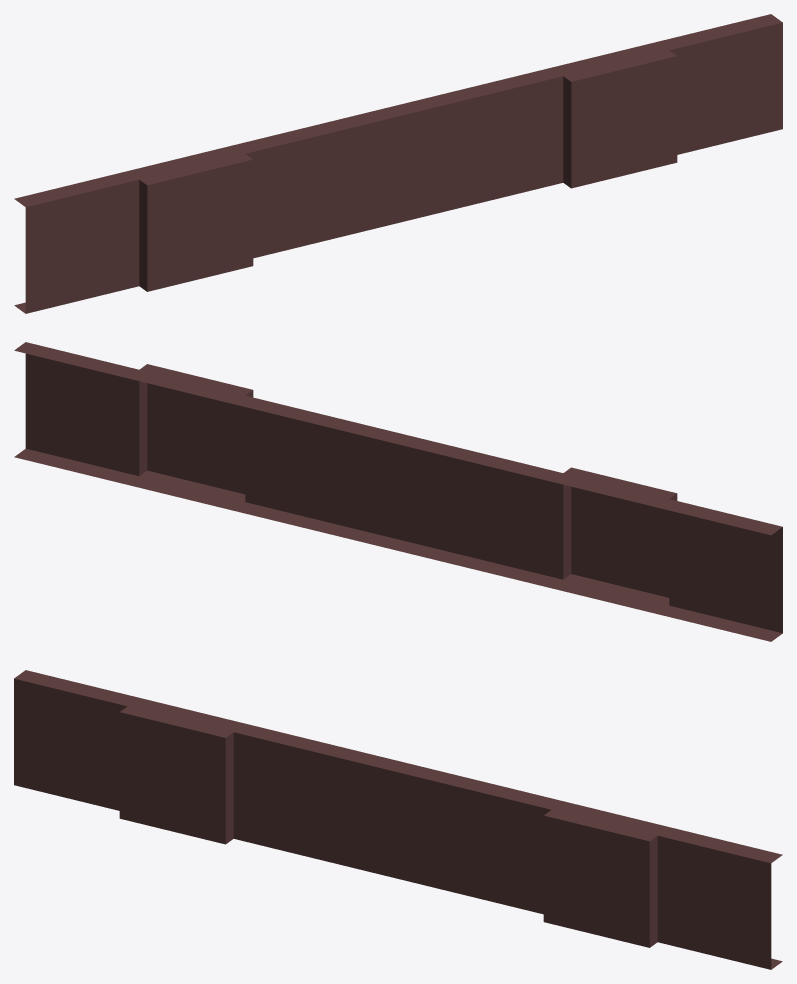
Rendered from AlleyLedgeB_1.fbx.
3 renders of one model, top to bottom at view 1: azimuth 30°, elevation 25°; view 2: azimuth 150°, elevation 25°; view 3: azimuth 330°, elevation 25°, orthographic.
Parts seen in each view (by area): view 1: AlleyLedgeB_1; view 2: AlleyLedgeB_1; view 3: AlleyLedgeB_1.
Part boxes in pixels (box(x1,y1,x2,y2)): AlleyLedgeB_1: box(14, 14, 782, 313); AlleyLedgeB_1: box(14, 342, 782, 641); AlleyLedgeB_1: box(14, 670, 782, 969).
Size of the model in its own units: 220 by 29.59 by 9.86.
